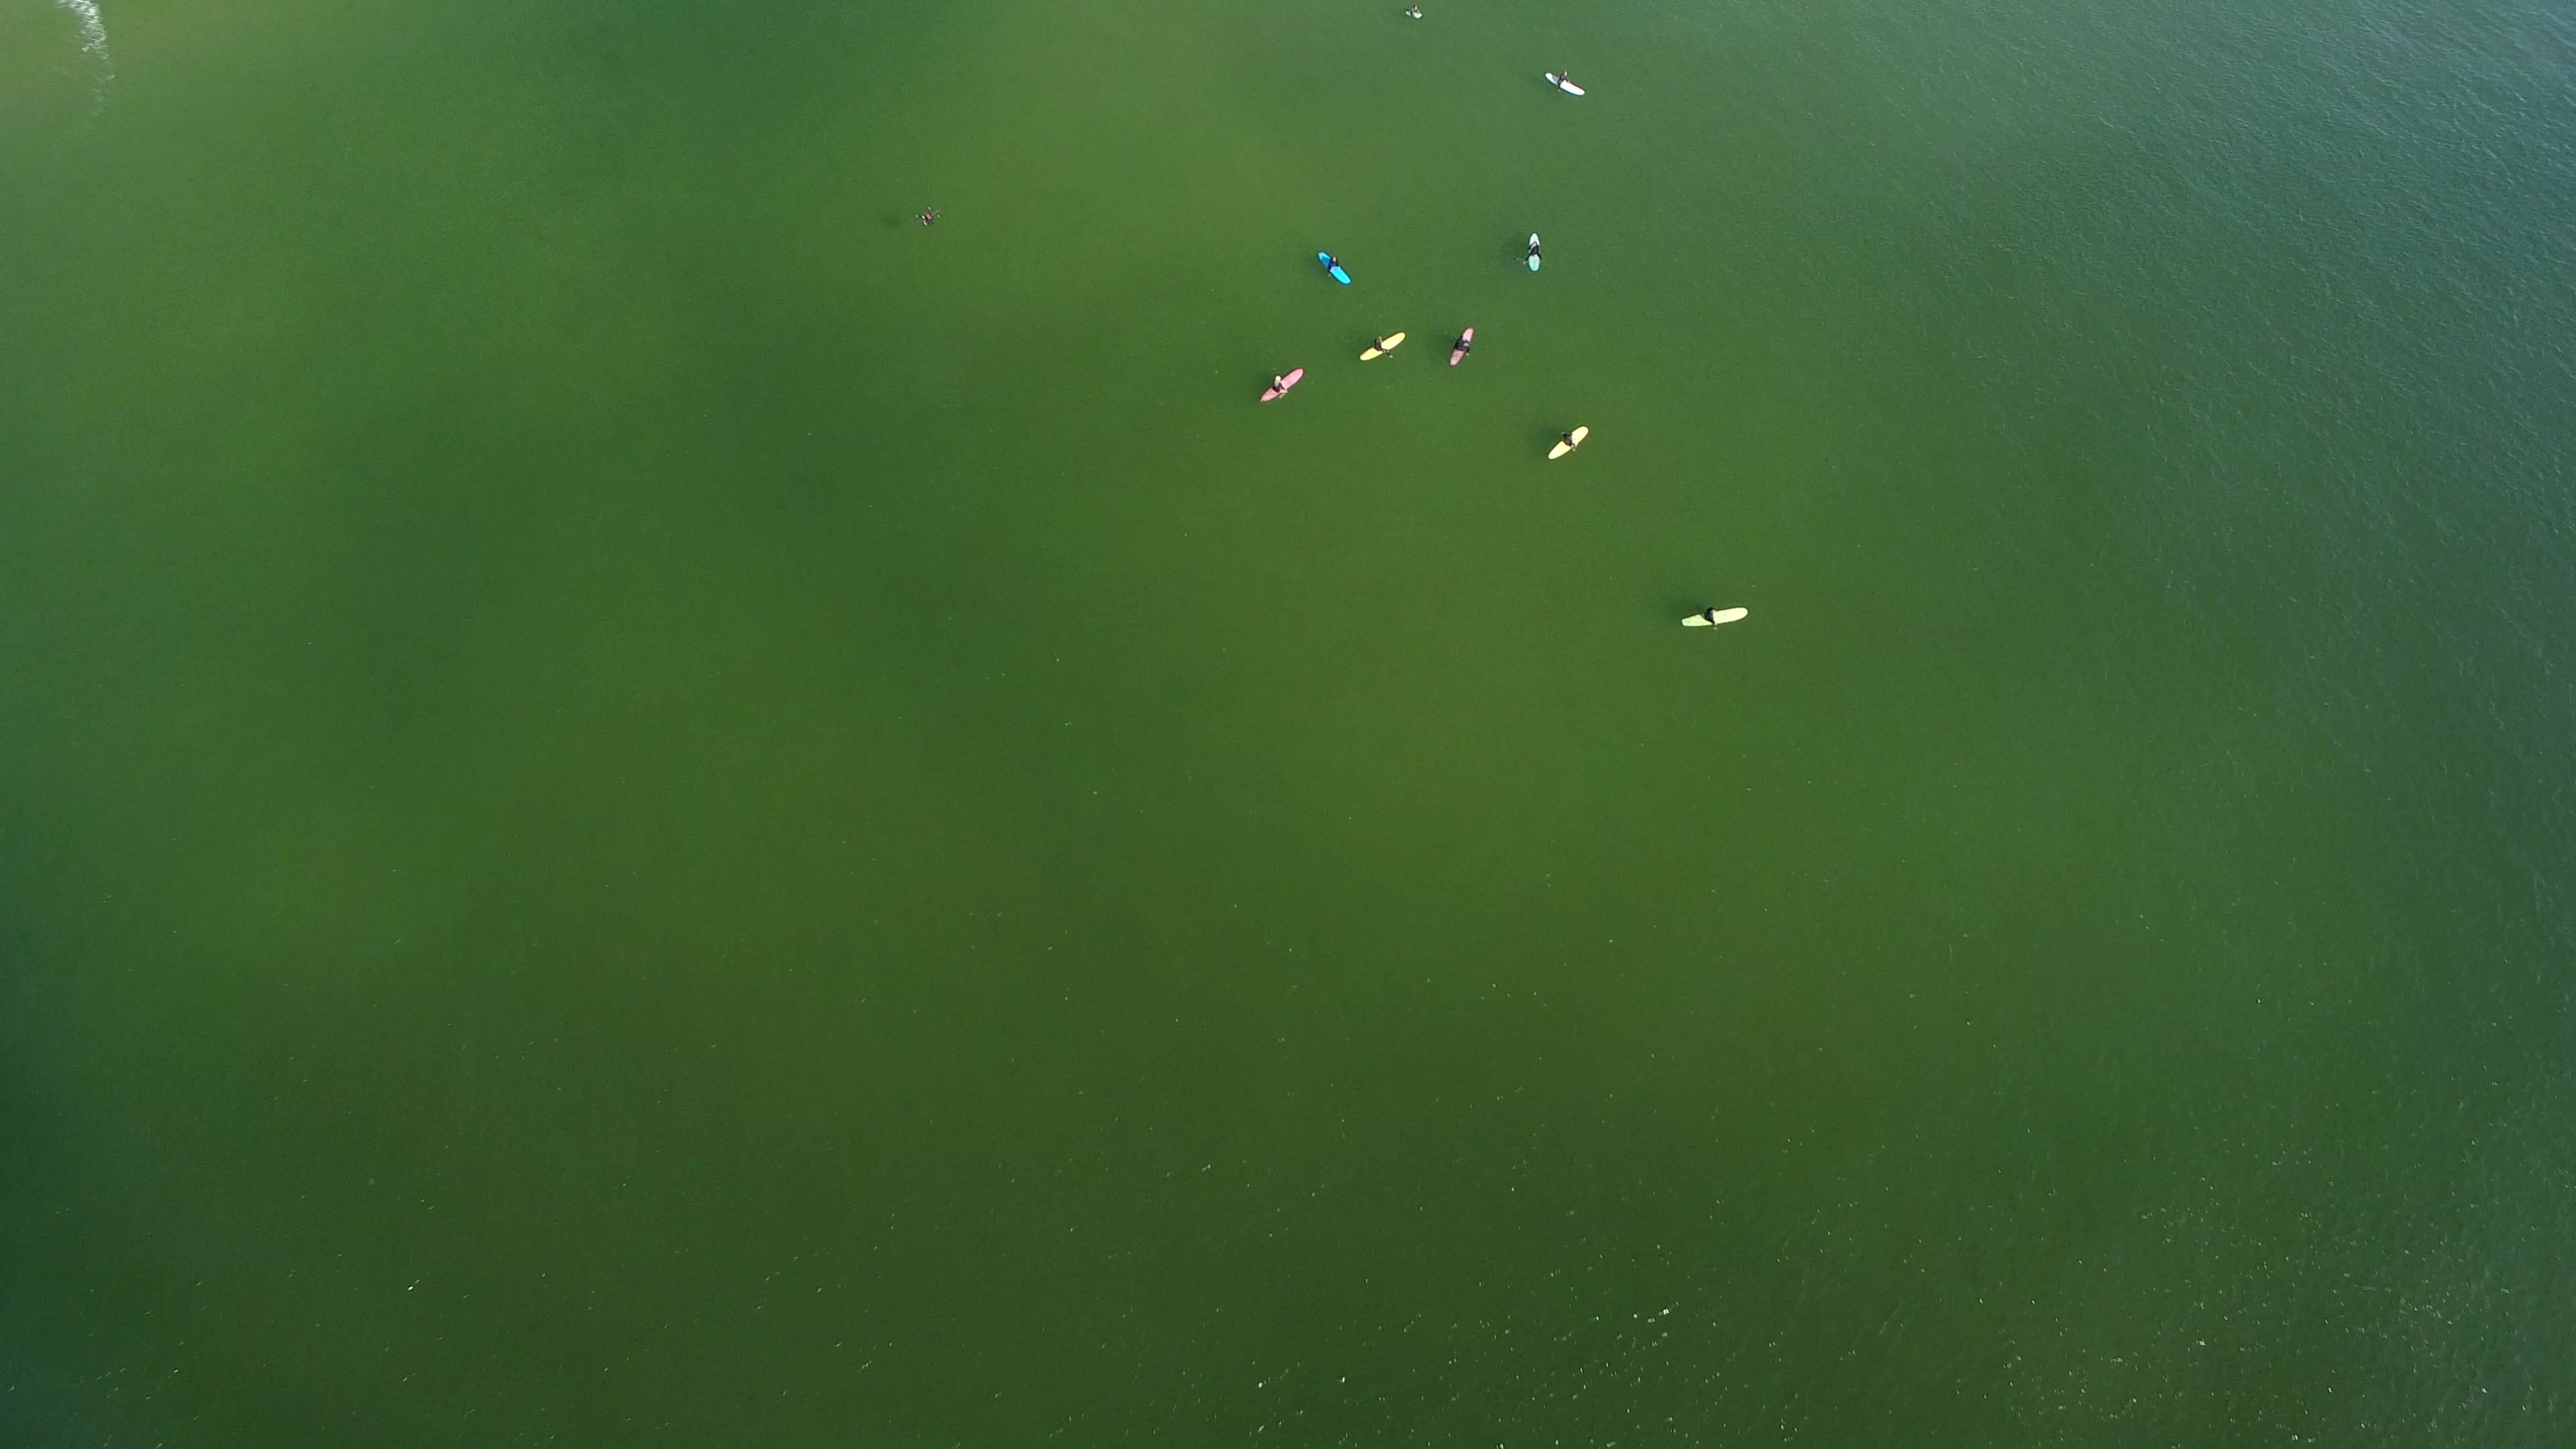surfer: (1675, 596, 1755, 640), (1253, 364, 1315, 409), (1545, 419, 1598, 467), (1357, 322, 1414, 366), (1309, 242, 1359, 292), (1541, 69, 1592, 103), (1447, 324, 1483, 372), (1525, 230, 1548, 276), (1405, 4, 1428, 25)
